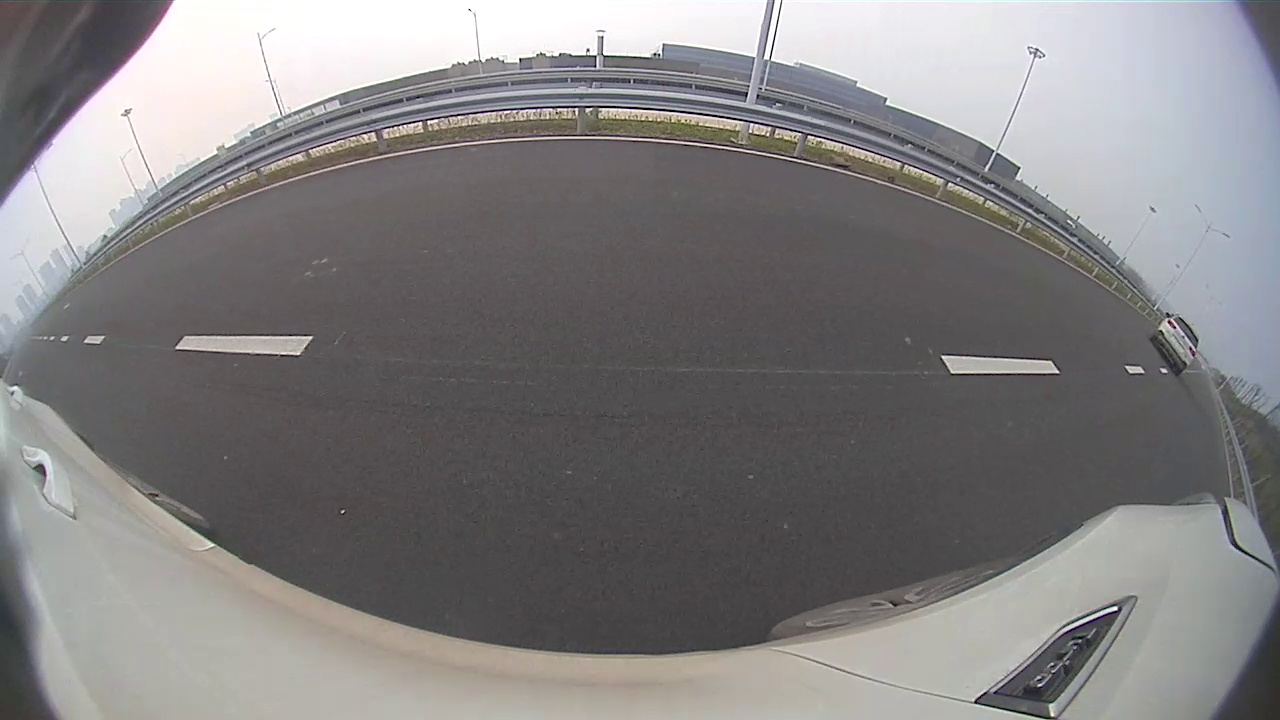car: (1151, 312, 1199, 376)
